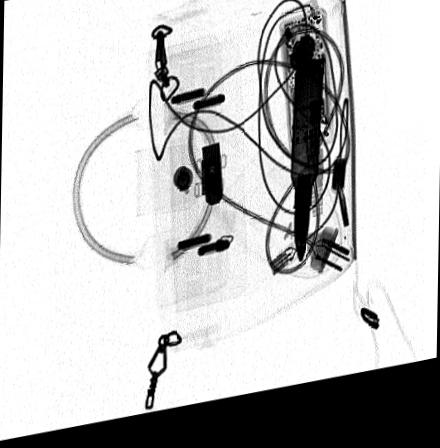Bullet: (289, 69, 324, 278)
